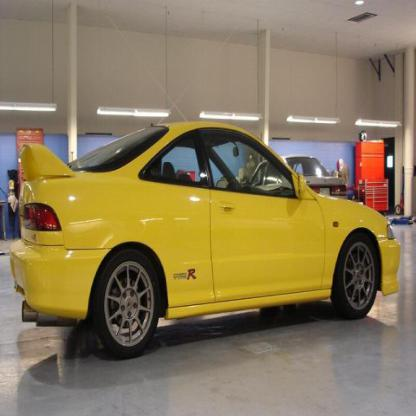car: (8, 118, 403, 362)
